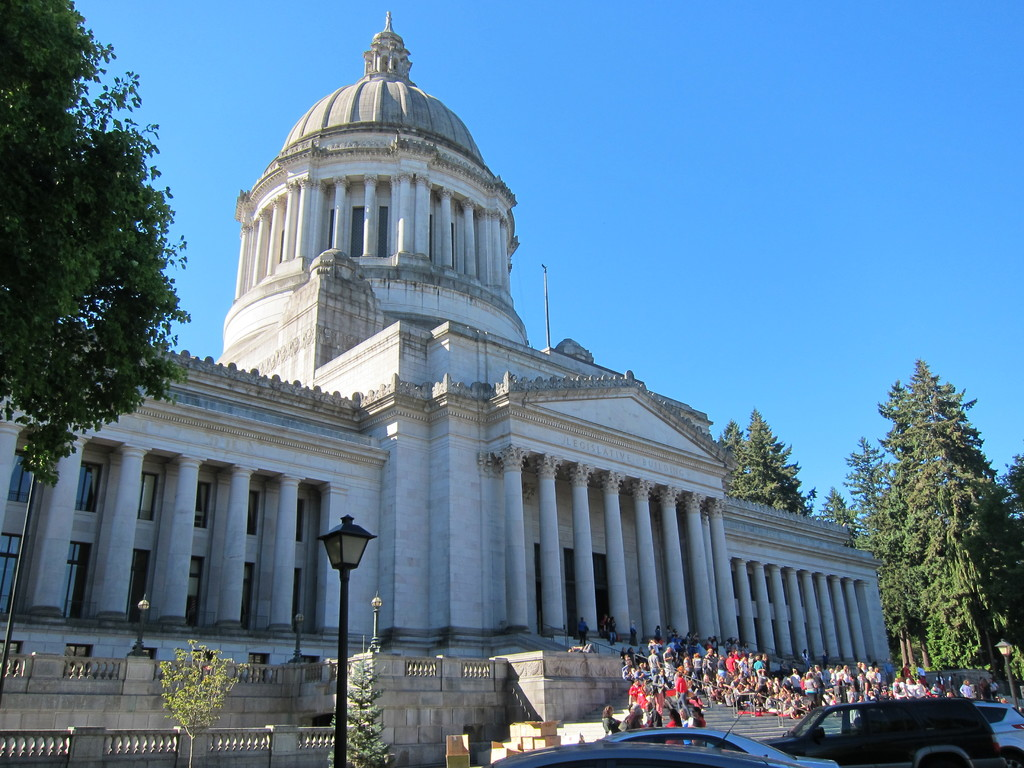Car: (485, 690, 796, 767), (605, 727, 840, 767), (974, 697, 1023, 767)
